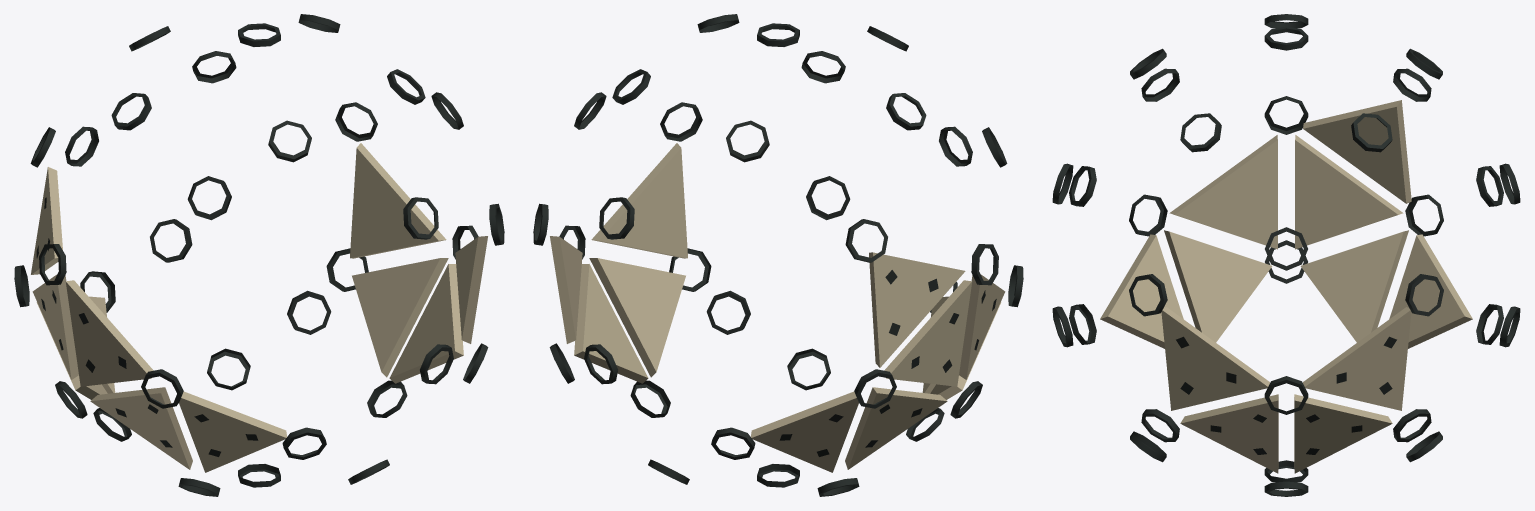
The model's file is shell_kest_c3.glb.
3 views of the same model, side by side, from view 1: azimuth 30°, elevation 25°; view 2: azimuth 150°, elevation 25°; view 3: azimuth 270°, elevation 25° (orthographic).
Visible parts, largest first — view 1: Pod, Core; view 2: Pod, Core; view 3: Pod, Core.
Part boxes in pixels (x1,y1,x2,y2): Pod: (31, 143, 487, 472); Core: (14, 14, 504, 496); Pod: (550, 143, 1005, 472); Core: (533, 14, 1023, 496); Pod: (1100, 100, 1472, 473); Core: (1052, 14, 1520, 496).
Bounding box in the file's own units: 1.96 × 1.96 × 1.89.
